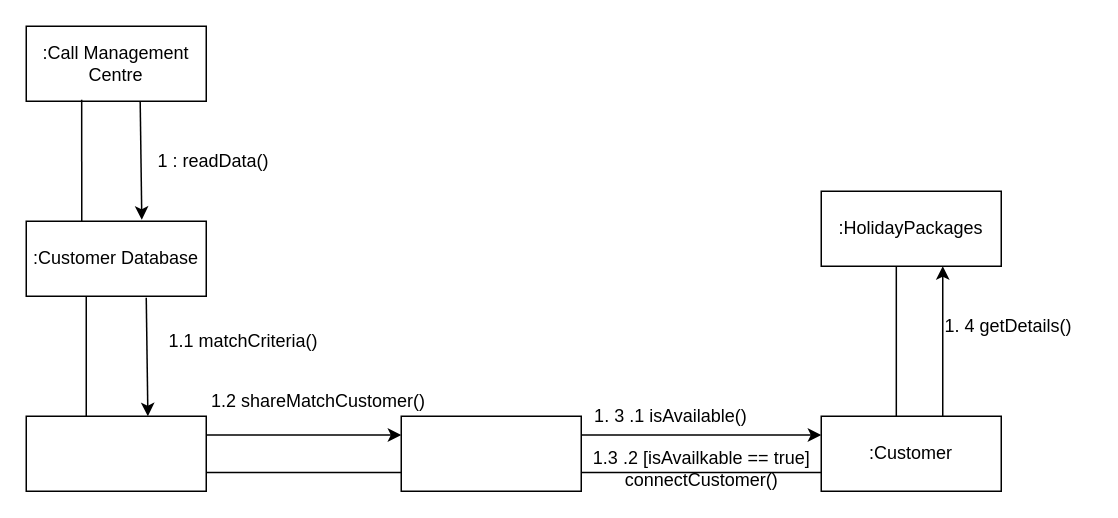
The diagram is 1118 pixels wide and 518 high, and some of its shapes have lost their labels. Here are the shapes that lost their labels. From the top down, the box of each, then its label:
(25, 415, 206, 491): :Relationship Manager Profile
(400, 415, 581, 491): :Relationship Manager
